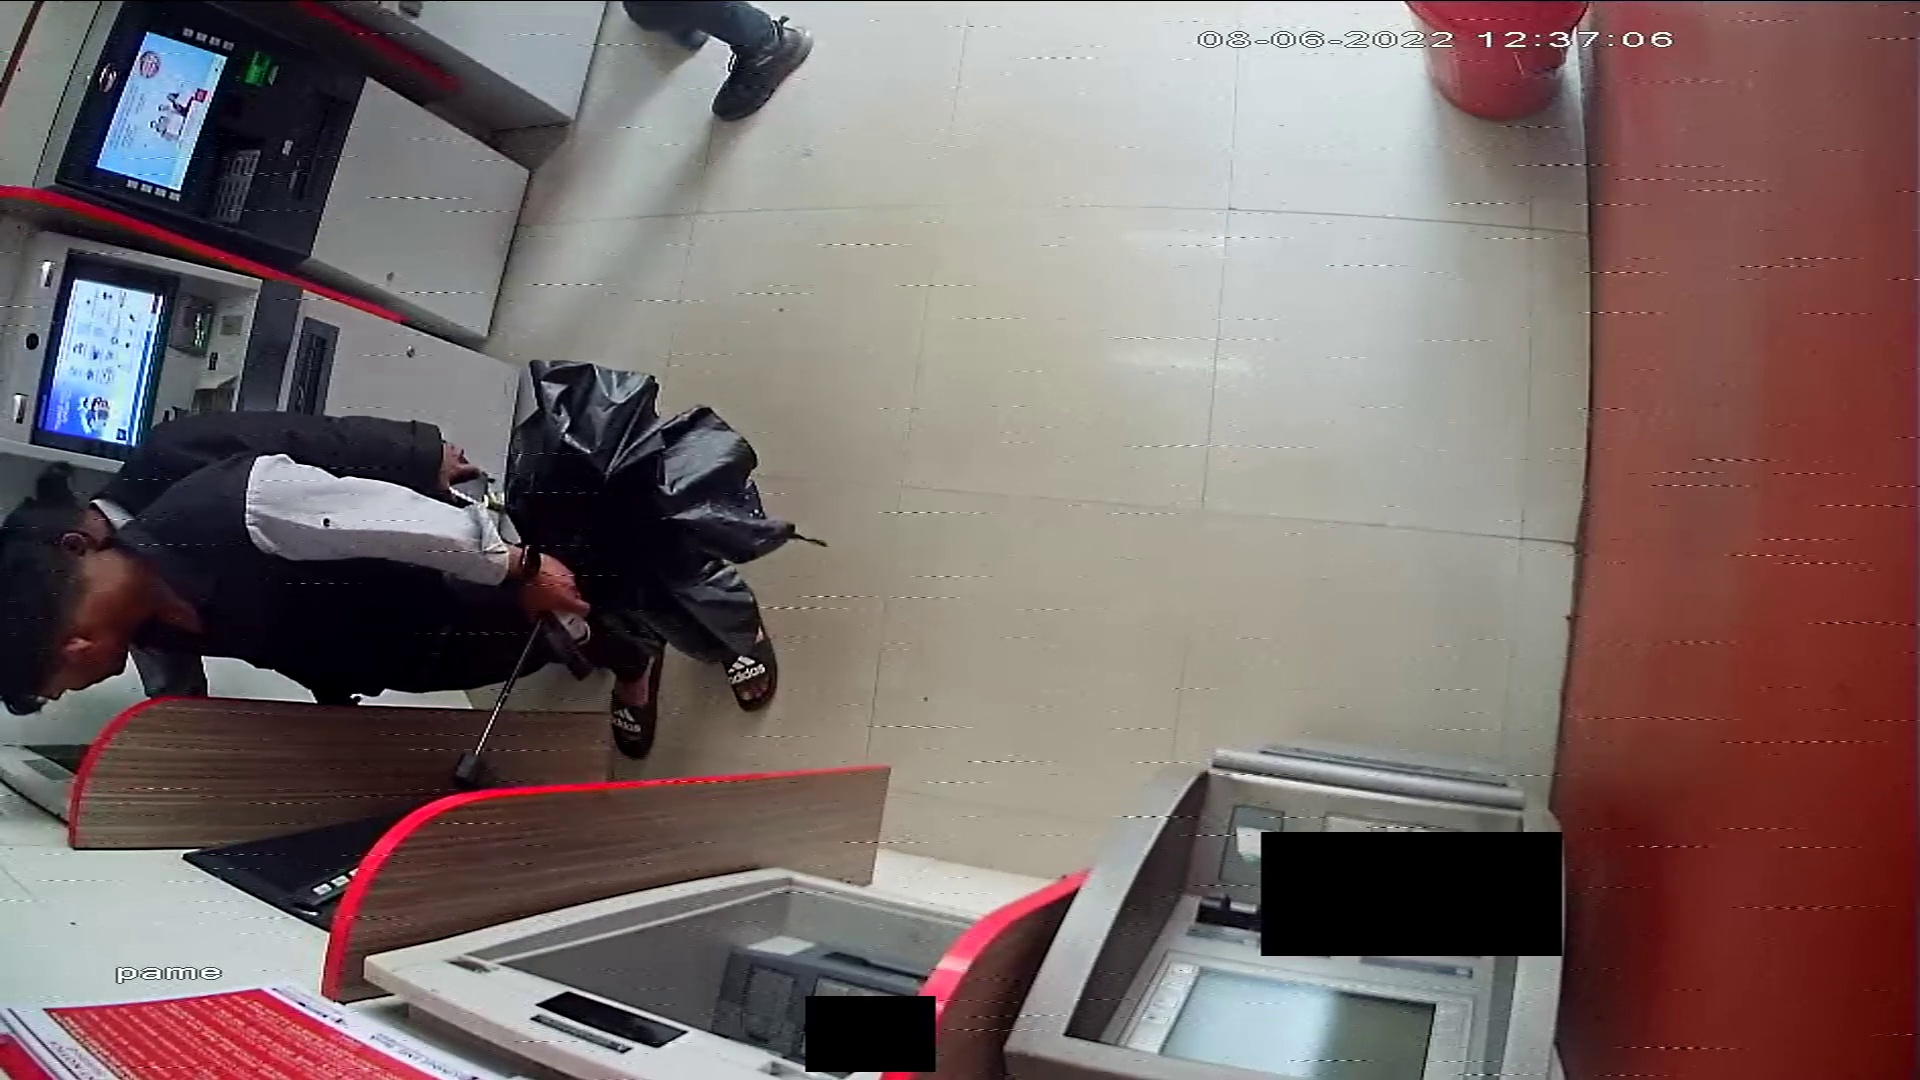person: (1, 450, 788, 763), (622, 1, 812, 129)
